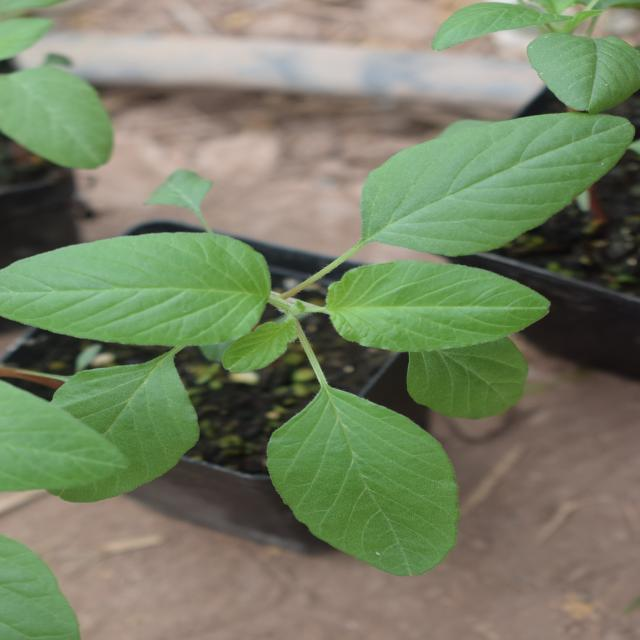pigweed: (94, 8, 522, 620)
